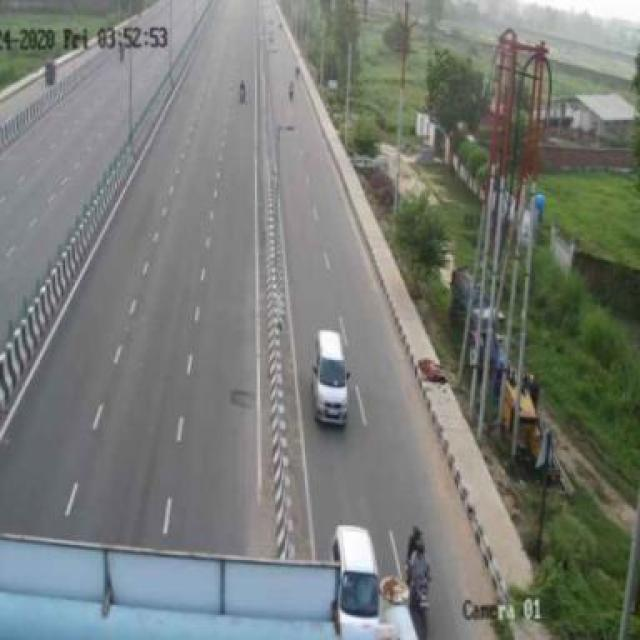car: (325, 516, 390, 632), (307, 322, 365, 433)
